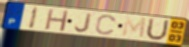C: (94, 14, 119, 36)
H: (43, 8, 71, 32)
I: (27, 6, 40, 30)
J: (74, 12, 94, 33)
M: (121, 16, 148, 40)
U: (144, 17, 171, 42)
